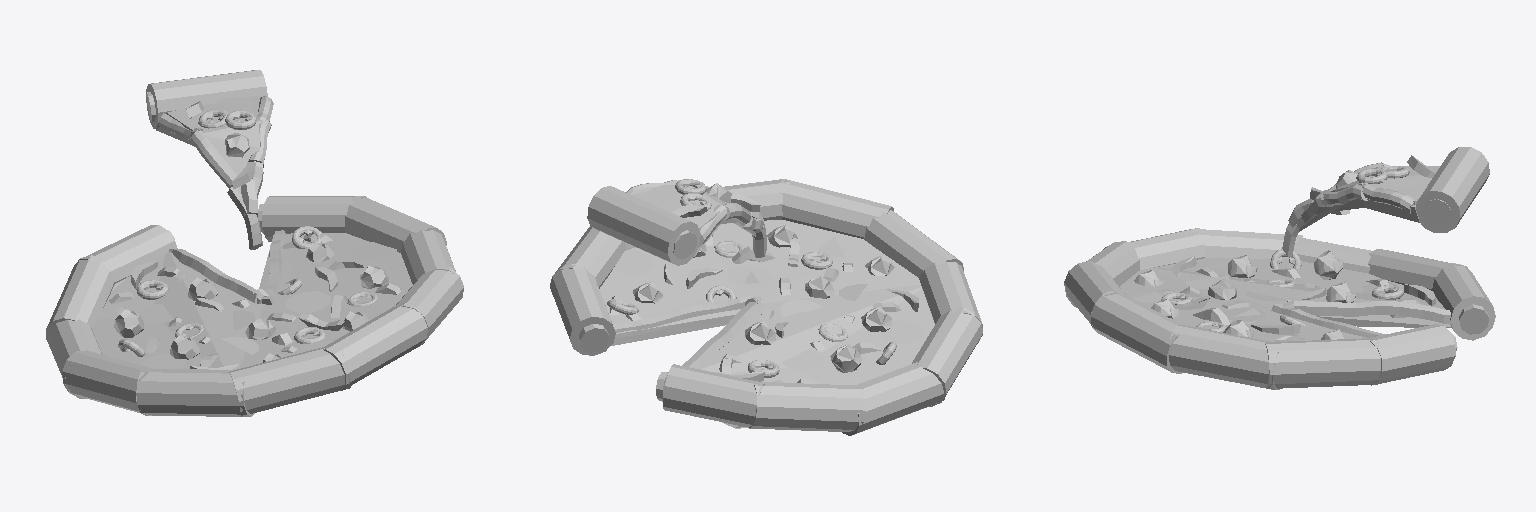
Rendered from pizzaObject.obj.
3 views of the same model, side by side, from view 1: azimuth 30°, elevation 25°; view 2: azimuth 150°, elevation 25°; view 3: azimuth 270°, elevation 25° (orthographic).
Parts seen in each view (by area): view 1: group[number redacted], group[number redacted], group[number redacted], group[number redacted], group[number redacted], group[number redacted], group[number redacted], group[number redacted], group[number redacted]; view 2: group[number redacted], group[number redacted], group[number redacted], group[number redacted], group[number redacted], group[number redacted], group[number redacted], group[number redacted], group[number redacted], group[number redacted], group[number redacted], group[number redacted] (+1 smaller); view 3: group[number redacted], group[number redacted], group[number redacted], group[number redacted], group[number redacted], group[number redacted], group[number redacted], group[number redacted], group[number redacted].
Boxes of the visible parts, x1,y1,x2,y2 form: group[number redacted]: [46, 196, 463, 416]; group[number redacted]: [146, 70, 267, 196]; group[number redacted]: [169, 249, 257, 303]; group[number redacted]: [191, 130, 237, 188]; group[number redacted]: [262, 230, 285, 304]; group[number redacted]: [227, 187, 262, 249]; group[number redacted]: [286, 291, 330, 312]; group[number redacted]: [114, 309, 143, 337]; group[number redacted]: [170, 335, 199, 359]; group[number redacted]: [550, 179, 982, 435]; group[number redacted]: [587, 180, 755, 265]; group[number redacted]: [613, 295, 760, 337]; group[number redacted]: [682, 300, 763, 368]; group[number redacted]: [613, 250, 653, 274]; group[number redacted]: [879, 320, 924, 343]; group[number redacted]: [578, 324, 608, 352]; group[number redacted]: [728, 265, 772, 287]; group[number redacted]: [830, 344, 861, 372]; group[number redacted]: [782, 348, 823, 370]; group[number redacted]: [861, 307, 891, 331]; group[number redacted]: [745, 321, 775, 344]; group[number redacted]: [1064, 228, 1495, 389]; group[number redacted]: [1299, 147, 1489, 232]; group[number redacted]: [1287, 300, 1450, 323]; group[number redacted]: [1271, 304, 1385, 337]; group[number redacted]: [1320, 184, 1417, 213]; group[number redacted]: [1459, 304, 1488, 334]; group[number redacted]: [1423, 199, 1451, 226]; group[number redacted]: [1314, 250, 1342, 279]; group[number redacted]: [1322, 184, 1367, 204].
Size of the model in its own units: 0.2789 by 0.1525 by 0.2809.